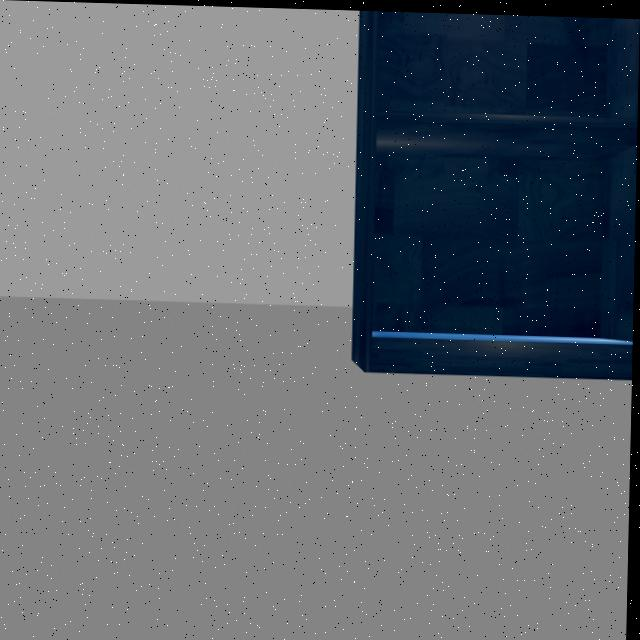shelf: (340, 8, 640, 414)
